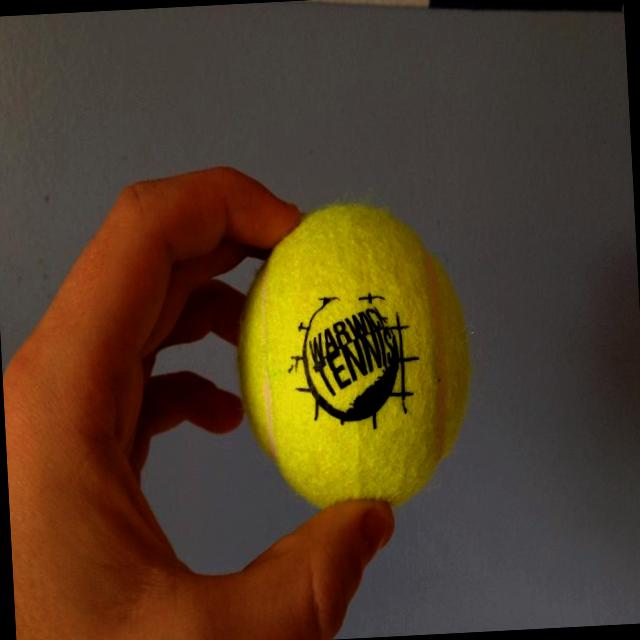ball: (225, 177, 498, 524)
